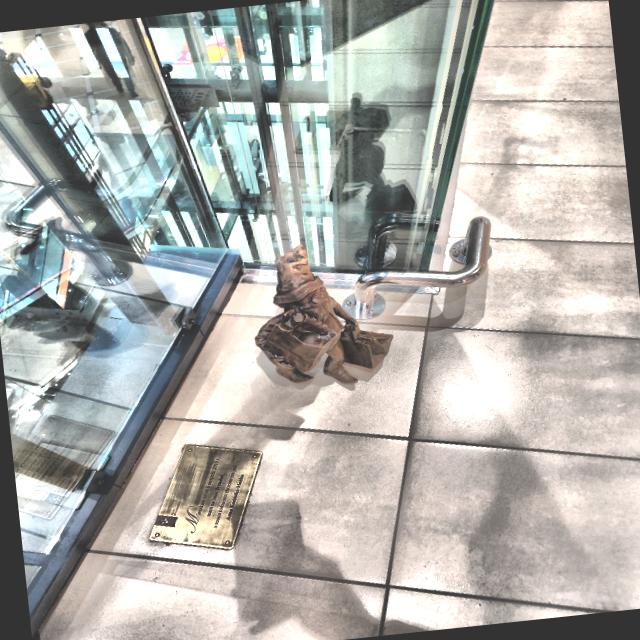Trendus: (254, 244, 393, 385)
